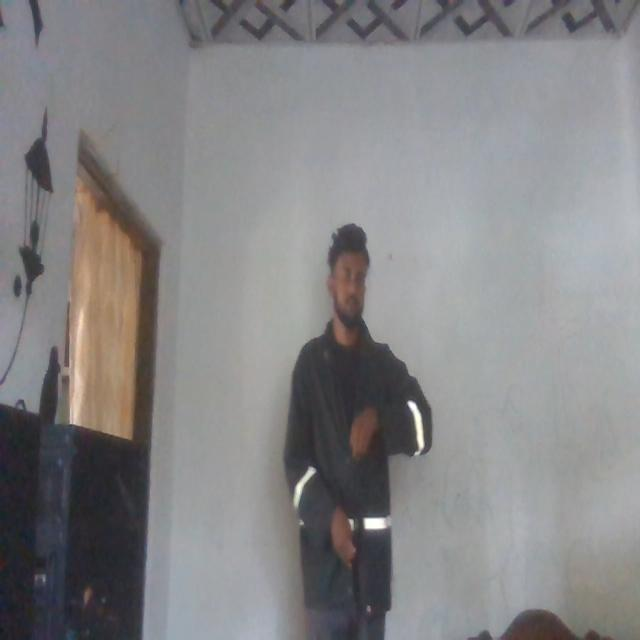Jacket_Wearer: (279, 322, 435, 604)
Person: (275, 221, 429, 640)
